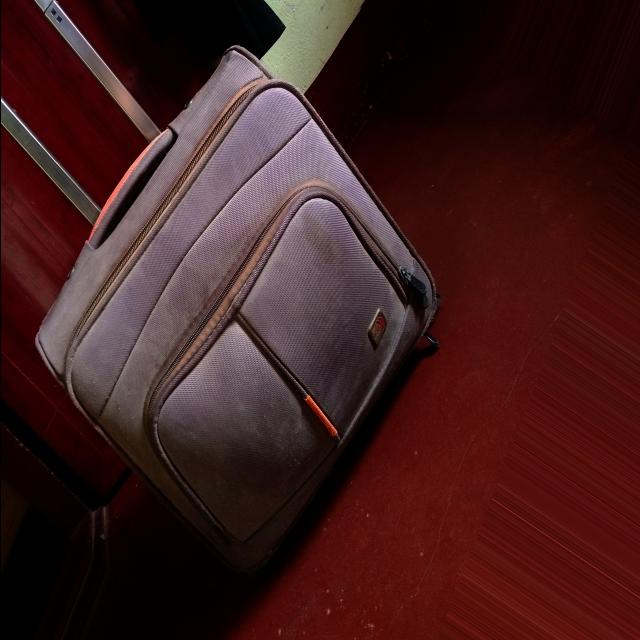Bag: (4, 2, 467, 574)
Handle: (0, 5, 167, 233)
